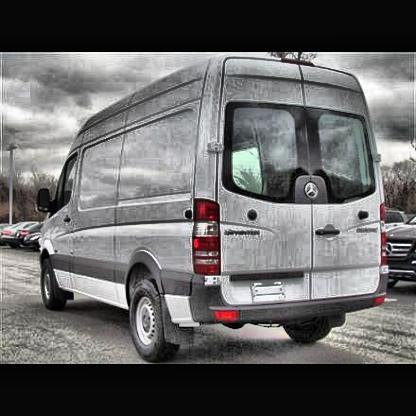Dodge Sprinter Cargo Van 2009: (37, 56, 396, 363)
